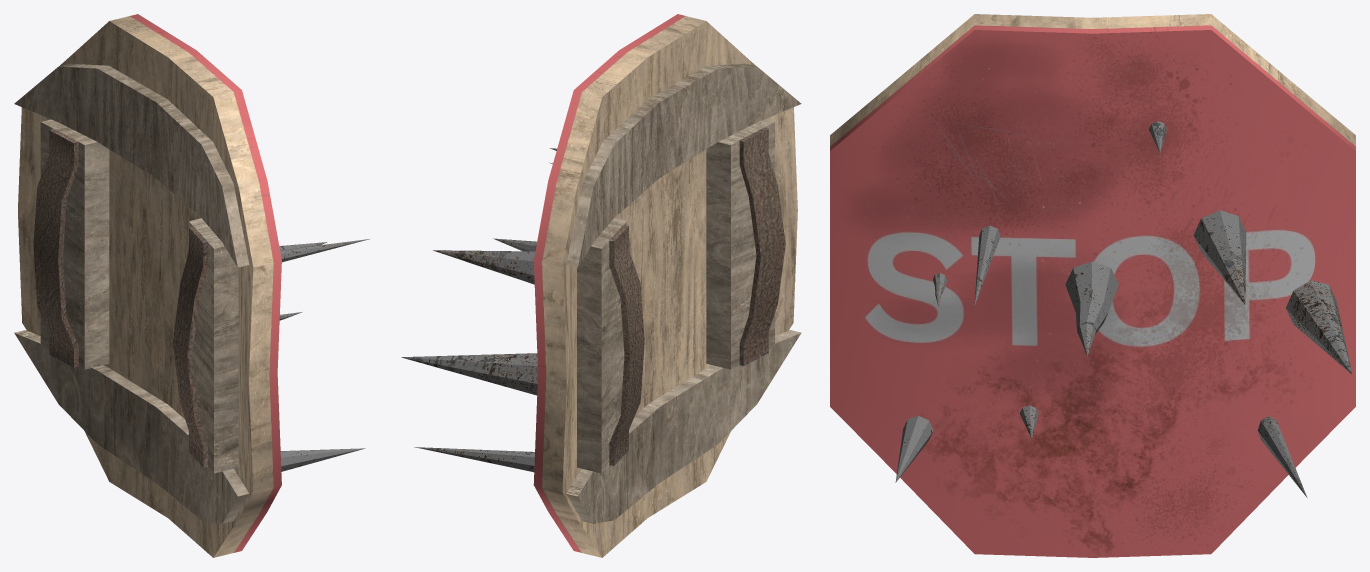
File: stop.gltf
3 views of the same model, side by side, from view 1: azimuth 30°, elevation 25°; view 2: azimuth 150°, elevation 25°; view 3: azimuth 270°, elevation 25° (orthographic). The views are drawn at different scales.
Parts seen in each view (by area): view 1: shield; view 2: shield; view 3: shield.
Boxes of the visible parts, x1,y1,x2,y2 form: shield: [14, 14, 369, 557]; shield: [401, 14, 801, 557]; shield: [830, 14, 1355, 557].
Bounding box in the file's own units: 54.26 × 110 × 99.97.
Materials: 1 (1 with a texture image).
